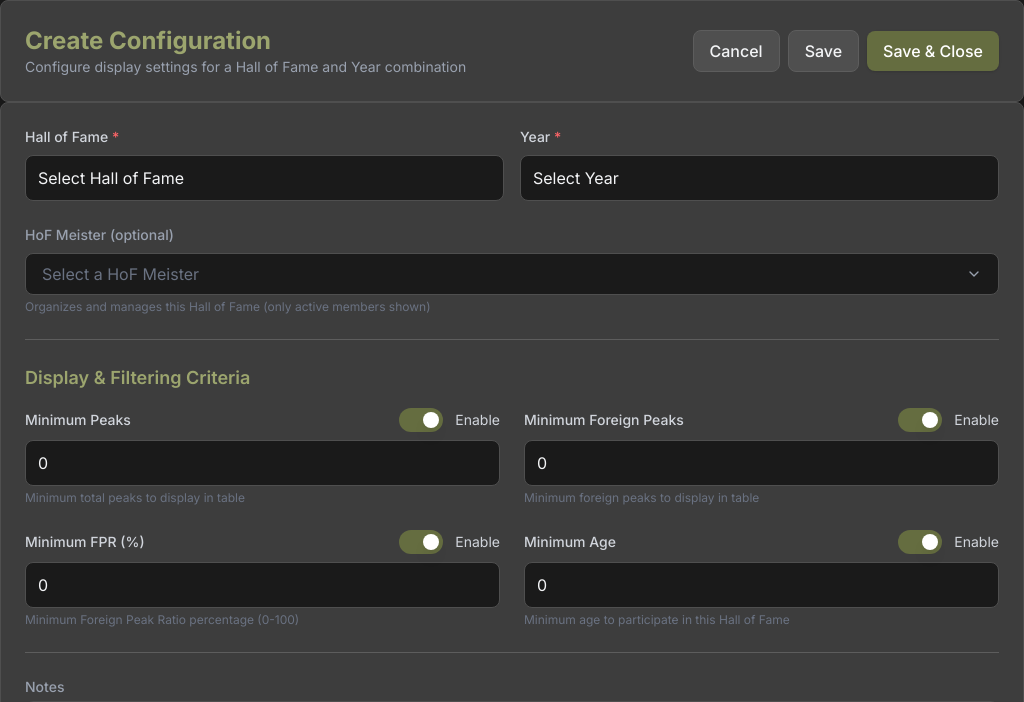
ConfigurationForm › Create Mode › validates required fields before submission
Check: the heading "Create Configuration" is shown, box x1=25 y1=26 x2=271 y2=55
Click the button "Save" at (823,51), box x1=788 y1=30 x2=859 y2=72
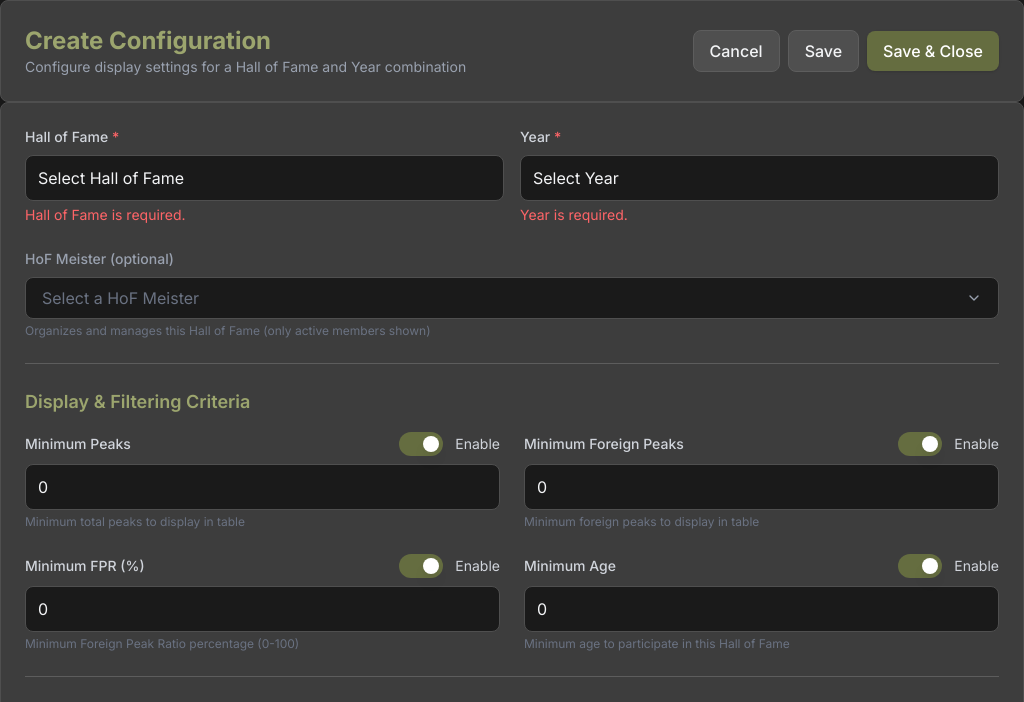
Check: the text "Hall of Fame is required." is shown, box x1=25 y1=206 x2=186 y2=223
Check: the text "Year is required." is shown, box x1=520 y1=206 x2=628 y2=223
